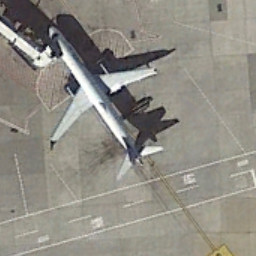Airplane: (35, 16, 170, 187)
